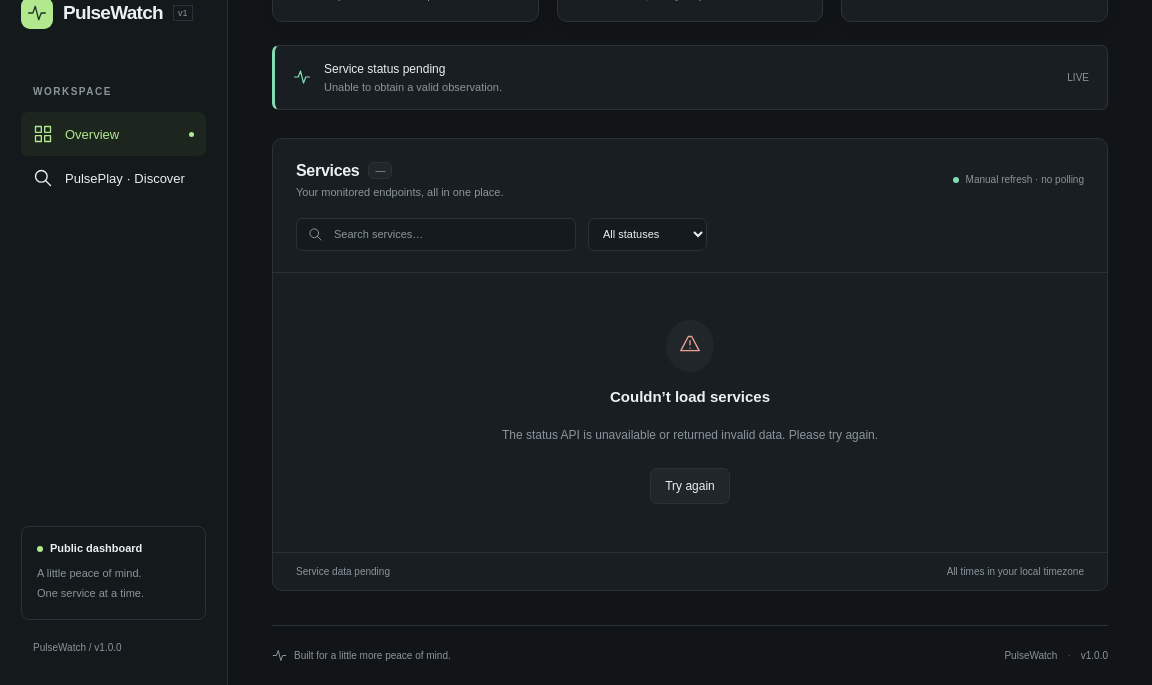
Test: live dashboard › shows an accessible API error and can recover with retry
(page scrolled)
Check: the message that starts with "Couldn’t load services" is shown, box 273,272 -> 1107,552
What coordinates should you click on to do the following:
click the button "Try again"
I would click on:
 (690, 486)
Its box is 650,468 -> 730,504.
(page scrolled)
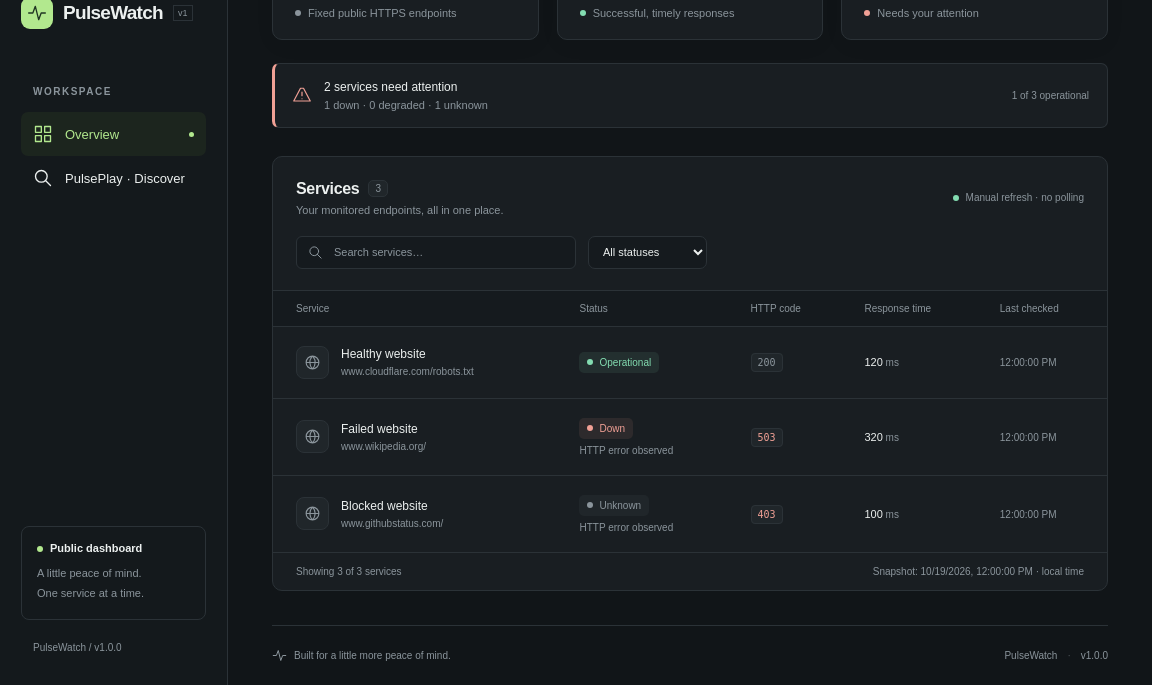
Check: the text "Healthy website" is shown, box 341,347 -> 426,361
